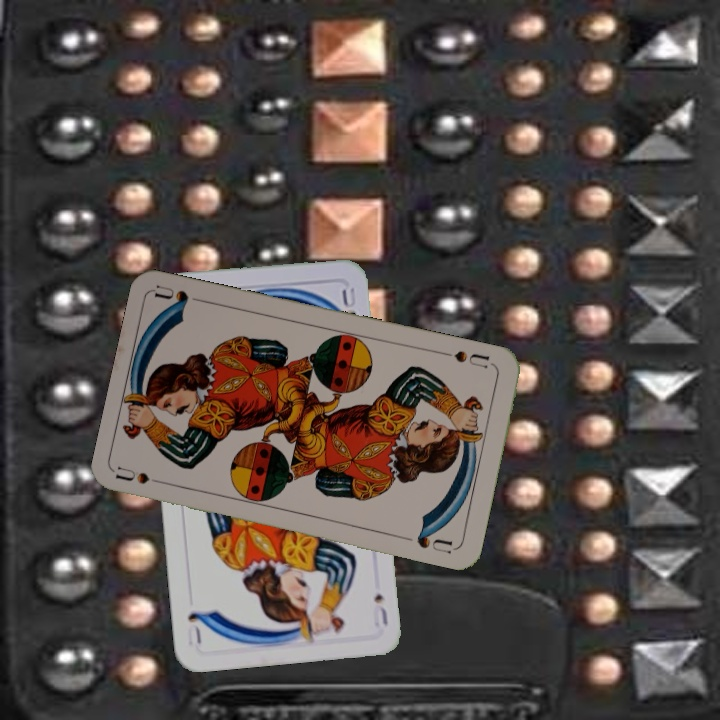SU: (113, 462, 173, 489), (438, 346, 496, 372), (369, 590, 391, 629)
